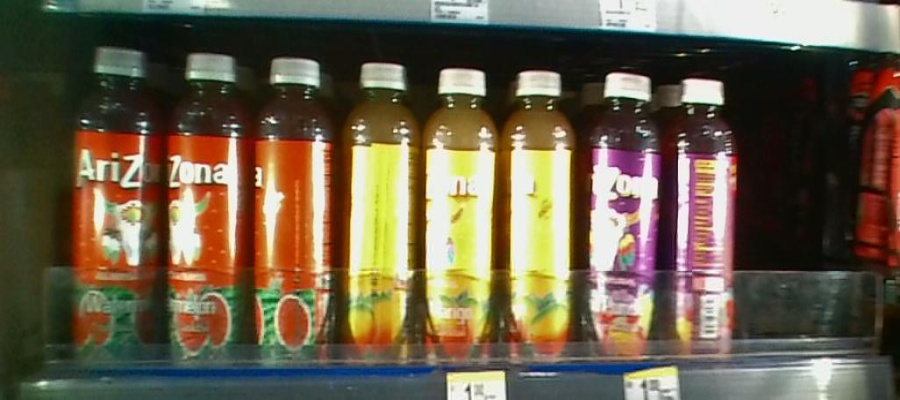bottle: (70, 45, 162, 372), (165, 47, 251, 378), (252, 45, 338, 363), (585, 54, 667, 377), (420, 60, 499, 390), (340, 48, 419, 365), (503, 53, 578, 376), (669, 76, 741, 372)
